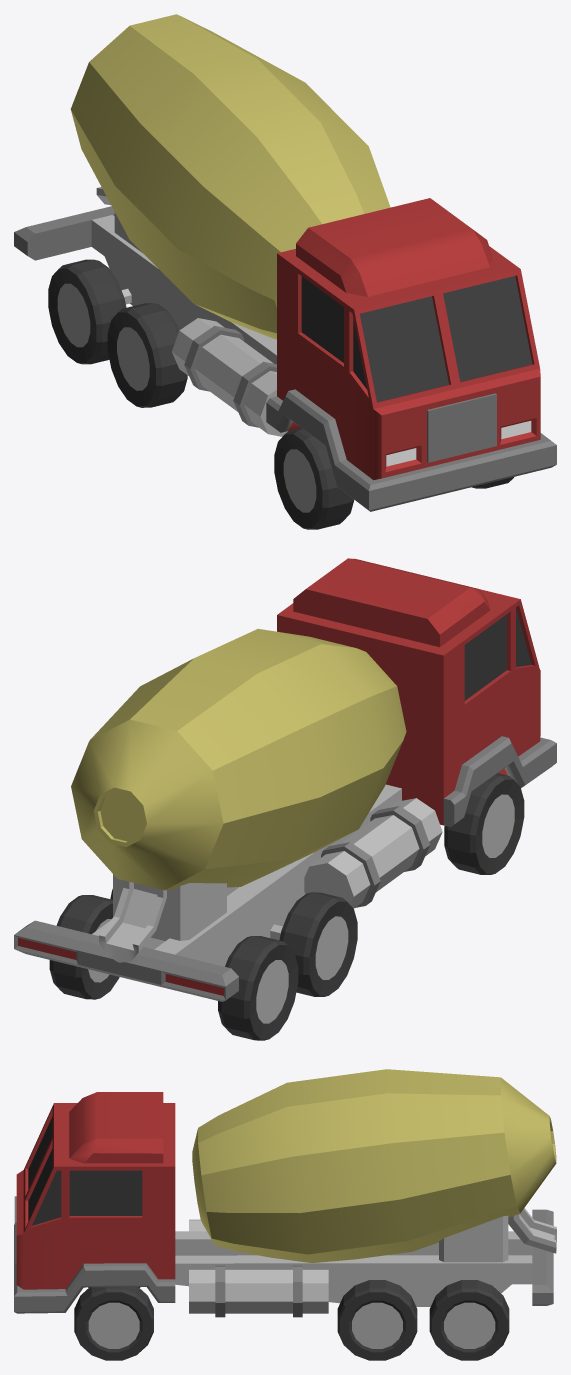
File: Track_02.fbx
3 views of the same model, one above another, from view 1: azimuth 30°, elevation 25°; view 2: azimuth 150°, elevation 25°; view 3: azimuth 270°, elevation 25° (orthographic). The views are drawn at different scales.
Parts seen in each view (by area): view 1: Gruzovik_V2; view 2: Gruzovik_V2; view 3: Gruzovik_V2.
Part boxes in pixels (x1,y1,x2,y2): Gruzovik_V2: [14, 14, 556, 529]; Gruzovik_V2: [14, 558, 556, 1040]; Gruzovik_V2: [14, 1069, 556, 1360].
Bounding box in the file's own units: 127 × 177 × 358.
